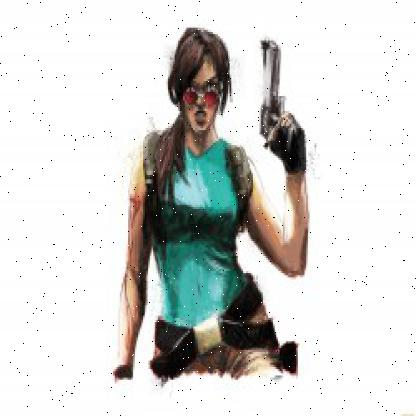pistol: (246, 36, 314, 155)
